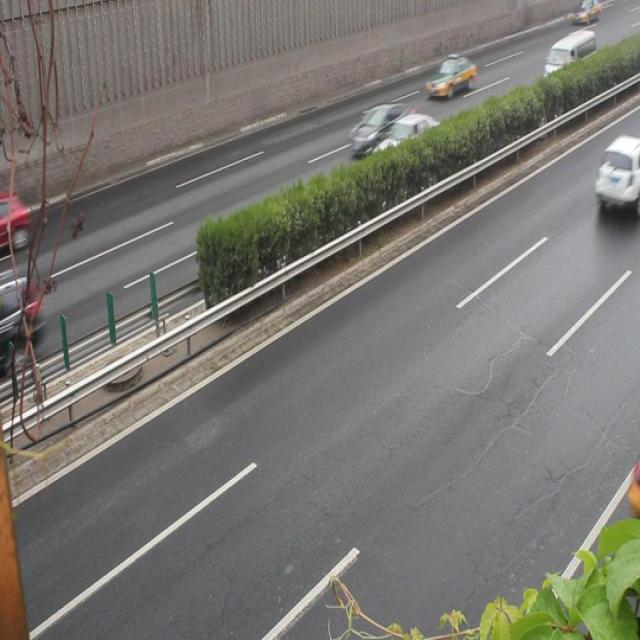car: (368, 113, 444, 179), (1, 252, 38, 368), (349, 104, 418, 159), (594, 133, 640, 211), (425, 54, 476, 100), (1, 188, 30, 254)
truck: (538, 30, 594, 93)
